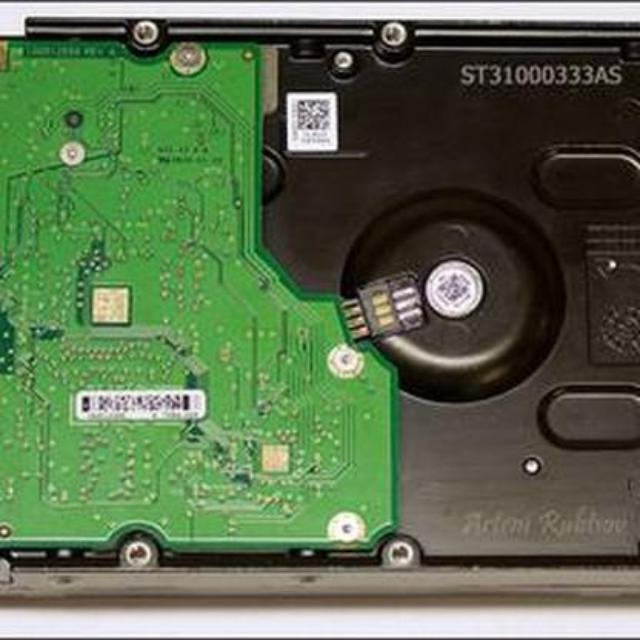DISK: (0, 7, 640, 593)
